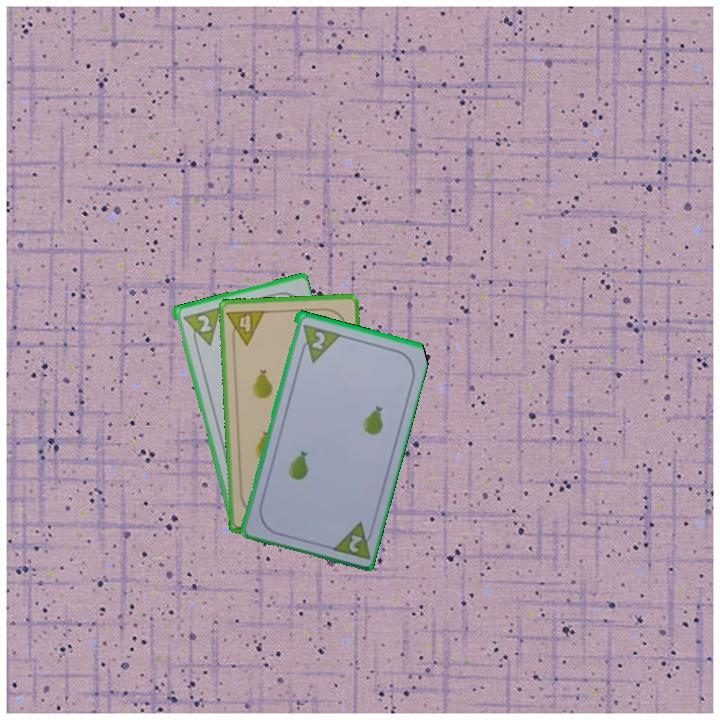2p: (295, 320, 342, 365), (193, 311, 214, 335), (345, 531, 365, 555)
4p: (223, 306, 268, 348)
